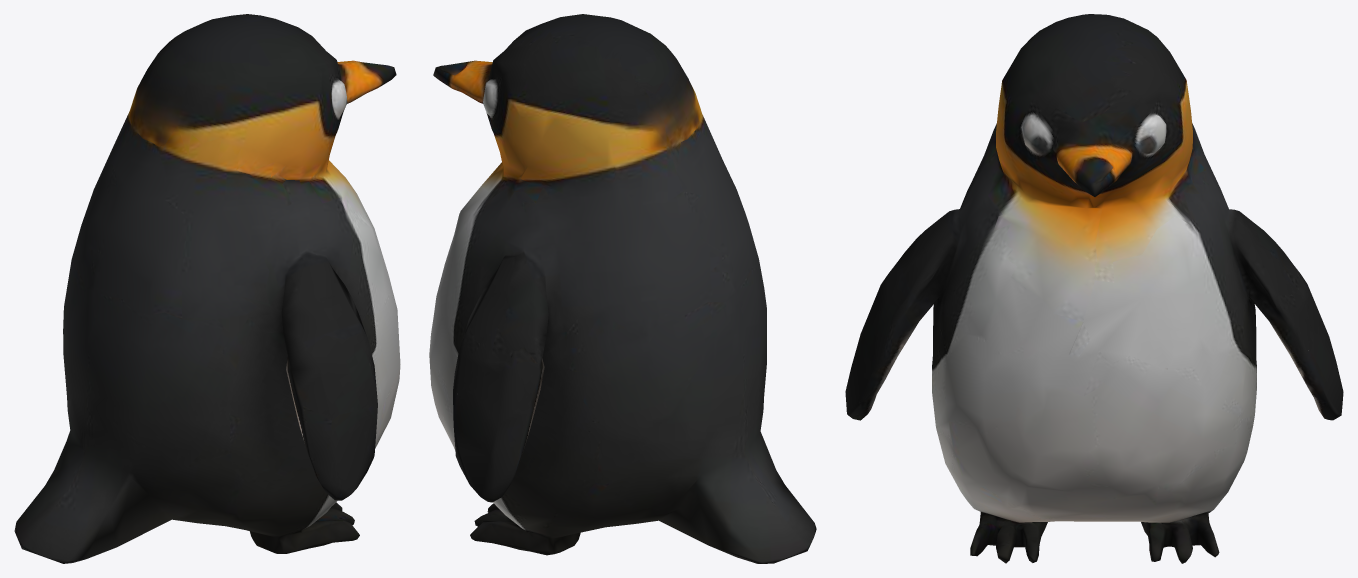
Rendered from penguin.glb.
The picture shows the model from 3 angles, left to right: view 1: azimuth 30°, elevation 25°; view 2: azimuth 150°, elevation 25°; view 3: azimuth 270°, elevation 25°; orthographic projection. The views are drawn at different scales.
Parts seen in each view (by area): view 1: tripo_node_1fd464c0-95a7-49dc-8df7-844dc035d2d1; view 2: tripo_node_1fd464c0-95a7-49dc-8df7-844dc035d2d1; view 3: tripo_node_1fd464c0-95a7-49dc-8df7-844dc035d2d1.
Boxes of the visible parts, <box> form: tripo_node_1fd464c0-95a7-49dc-8df7-844dc035d2d1: <box>14,14,400,563</box>; tripo_node_1fd464c0-95a7-49dc-8df7-844dc035d2d1: <box>429,14,816,563</box>; tripo_node_1fd464c0-95a7-49dc-8df7-844dc035d2d1: <box>845,14,1343,563</box>.
Bounding box in the file's own units: 0.8008 × 1 × 0.8943.
Materials: 1 (1 with a texture image).
